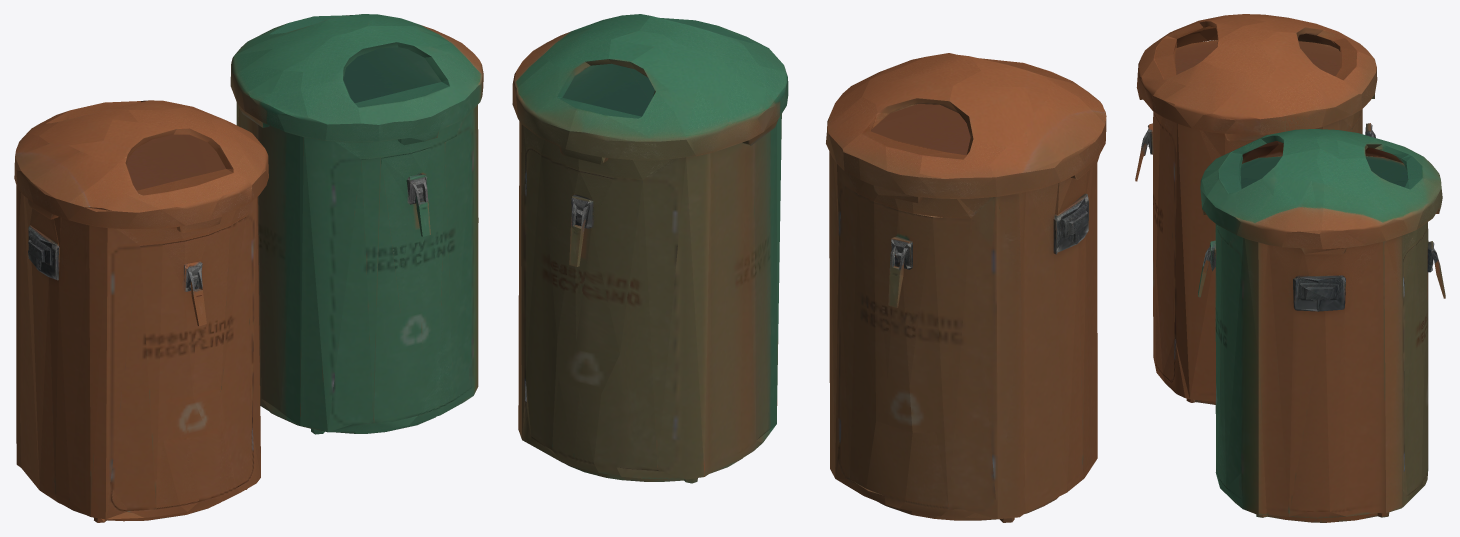
File: bin.glb
3 views of the same model, side by side, from view 1: azimuth 30°, elevation 25°; view 2: azimuth 150°, elevation 25°; view 3: azimuth 270°, elevation 25° (orthographic). The views are drawn at different scales.
Size of the model in its own units: 1.9 by 1.43 by 1.17.
Materials: 1 (1 with a texture image).
